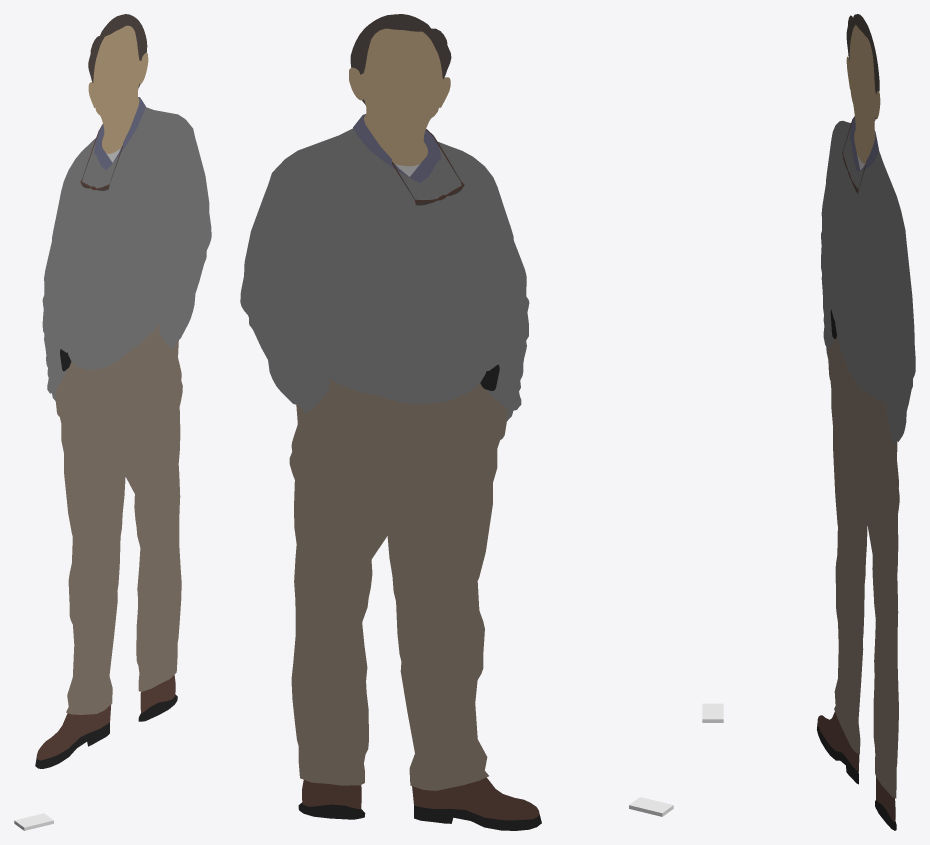
The picture shows the model from 3 angles, left to right: view 1: azimuth 30°, elevation 25°; view 2: azimuth 150°, elevation 25°; view 3: azimuth 270°, elevation 25°; orthographic projection. The views are drawn at different scales.
Parts seen in each view (by area): view 1: Derrick (×10), SketchUp; view 2: Derrick (×9); view 3: Derrick (×8), SketchUp.
Part boxes in pixels (box(x1,y1,x2,y2)): Derrick (×10): box(35, 14, 211, 768); SketchUp: box(14, 813, 53, 830); Derrick (×9): box(240, 14, 541, 830); Derrick (×8): box(817, 14, 915, 822); SketchUp: box(702, 703, 723, 722).
Bounding box in the file's own units: 28.75 × 17.19 × 69.09.
